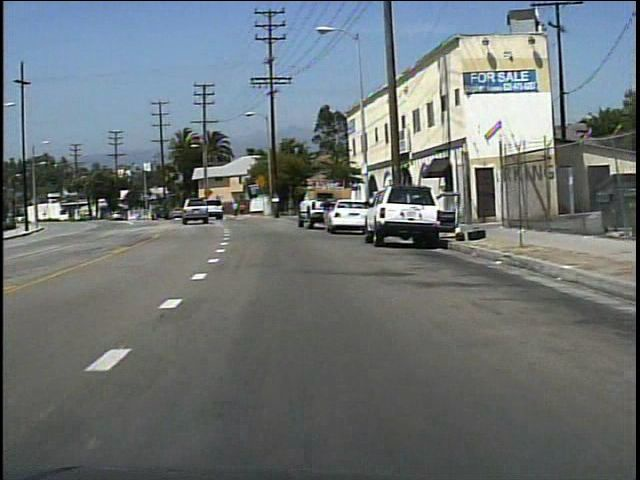person: (317, 193, 336, 233), (231, 198, 241, 219), (239, 201, 248, 218)
